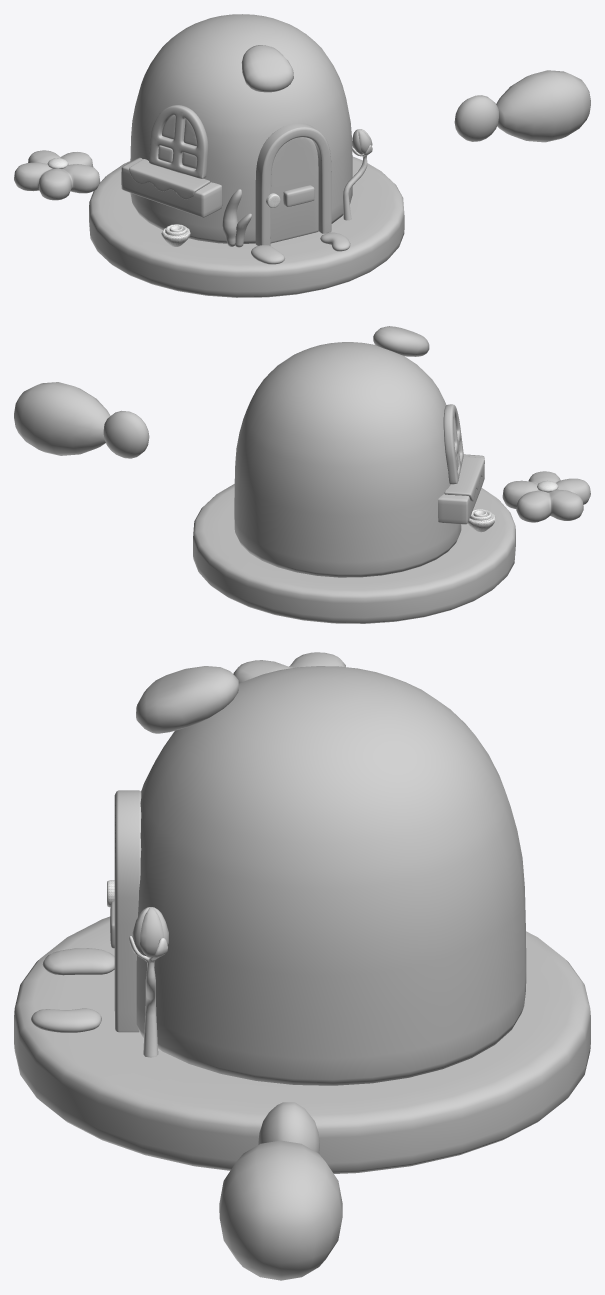
Rendered from A_Flowerhouse.fbx.
3 renders of one model, top to bottom at view 1: azimuth 30°, elevation 25°; view 2: azimuth 150°, elevation 25°; view 3: azimuth 270°, elevation 25°, orthographic. The views are drawn at different scales.
Parts seen in each view (by area): view 1: A_Flowerhouse, Item_A_Flowerhouse_4, Item_A_Flowerhouse_1; view 2: A_Flowerhouse, Item_A_Flowerhouse_1; view 3: A_Flowerhouse, Item_A_Flowerhouse_4.
Boxes of the visible parts, x1,y1,x2,y2 form: A_Flowerhouse: (14, 14, 590, 297); Item_A_Flowerhouse_4: (343, 145, 372, 220); Item_A_Flowerhouse_1: (161, 224, 190, 246); A_Flowerhouse: (14, 326, 590, 623); Item_A_Flowerhouse_1: (468, 509, 495, 532); A_Flowerhouse: (14, 652, 590, 1280); Item_A_Flowerhouse_4: (129, 936, 168, 1057).
Bounding box in the file's own units: 3.66 × 1.29 × 1.79.
